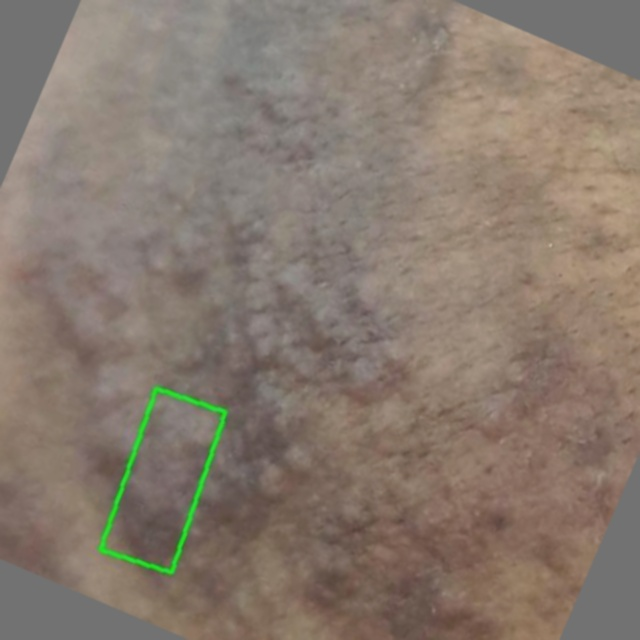Tinea Corporis: (101, 388, 226, 573)
